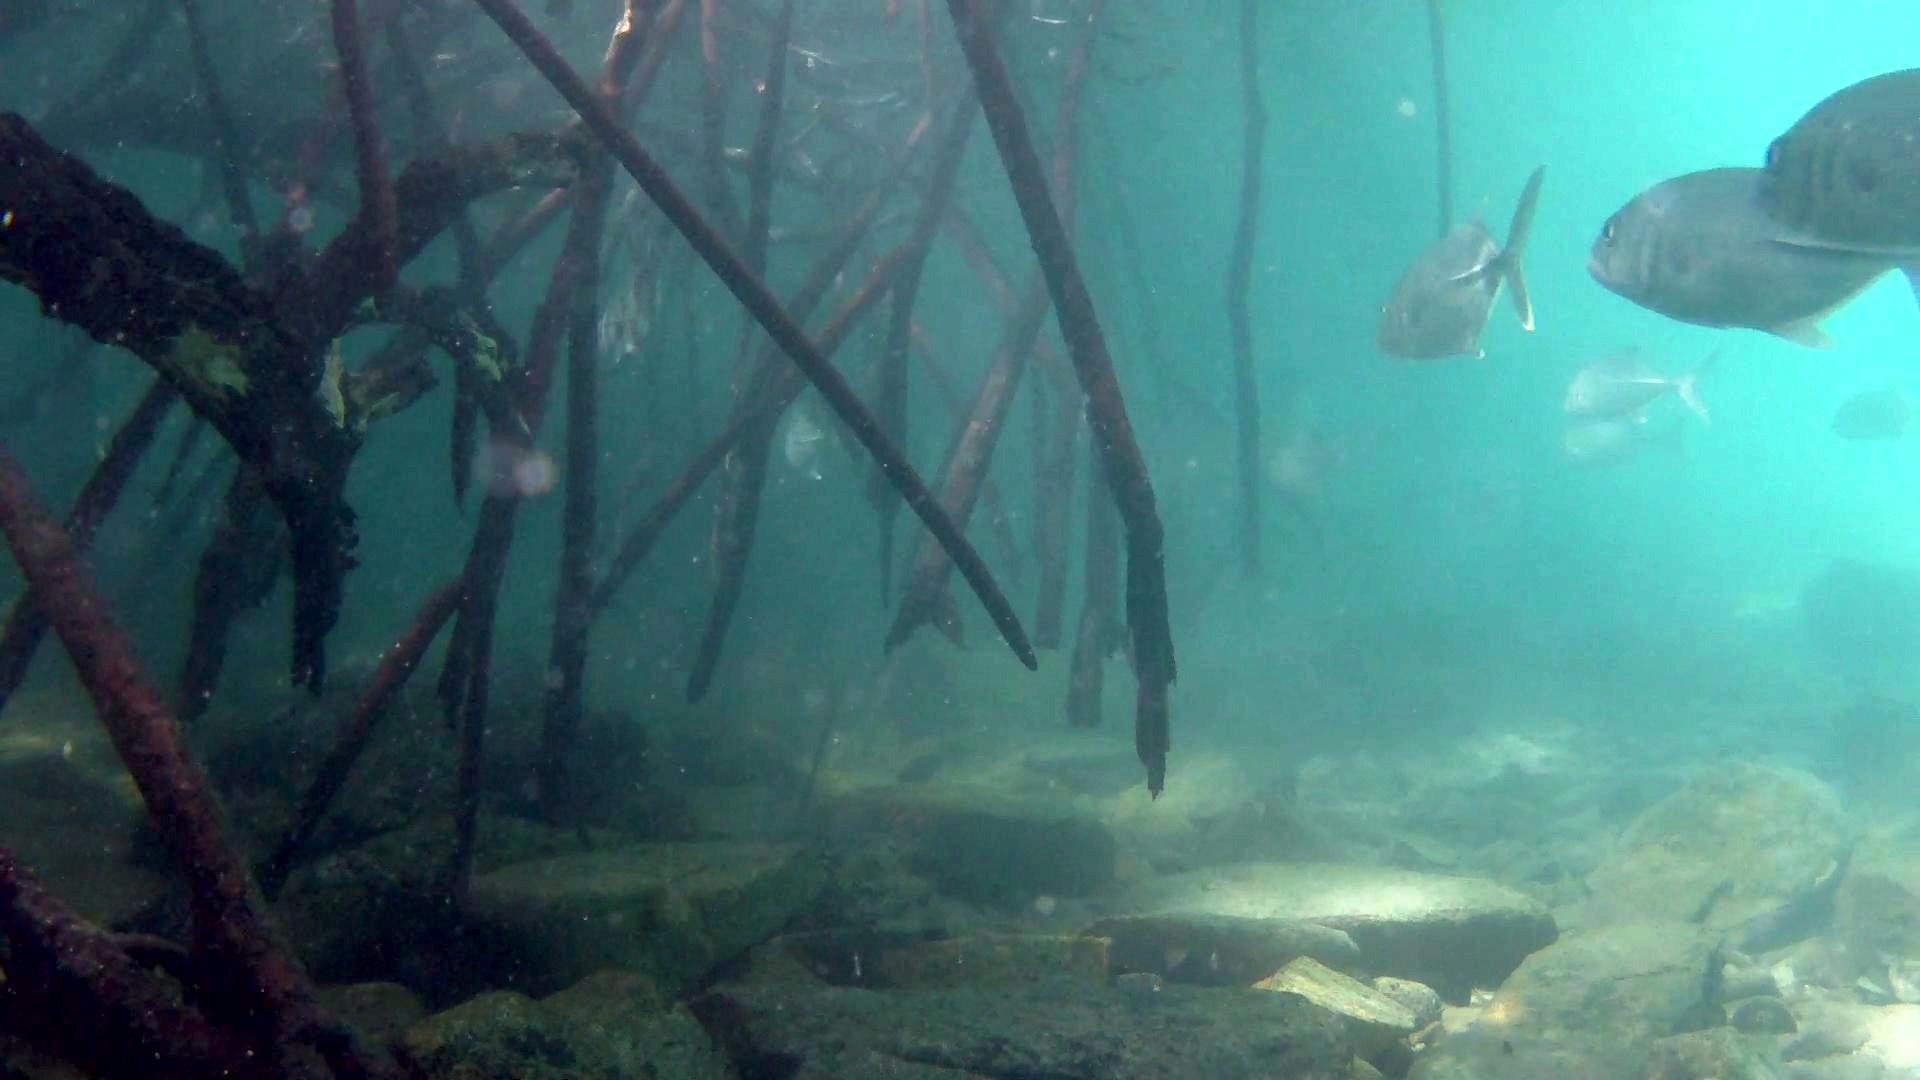caranx: (1577, 145, 1920, 360), (1358, 153, 1556, 380), (1746, 55, 1920, 293)
